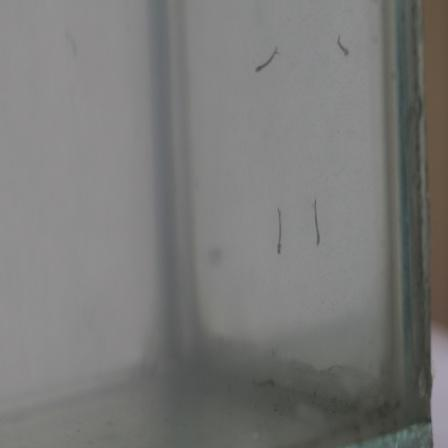Jentik-Nyamuk: (270, 204, 288, 259), (252, 43, 281, 77)
